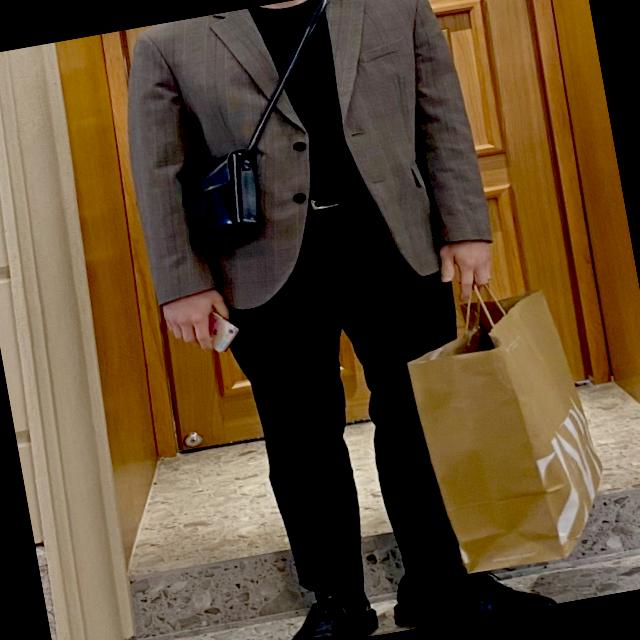blazer: (102, 0, 503, 323)
denimpants: (200, 176, 502, 613)
